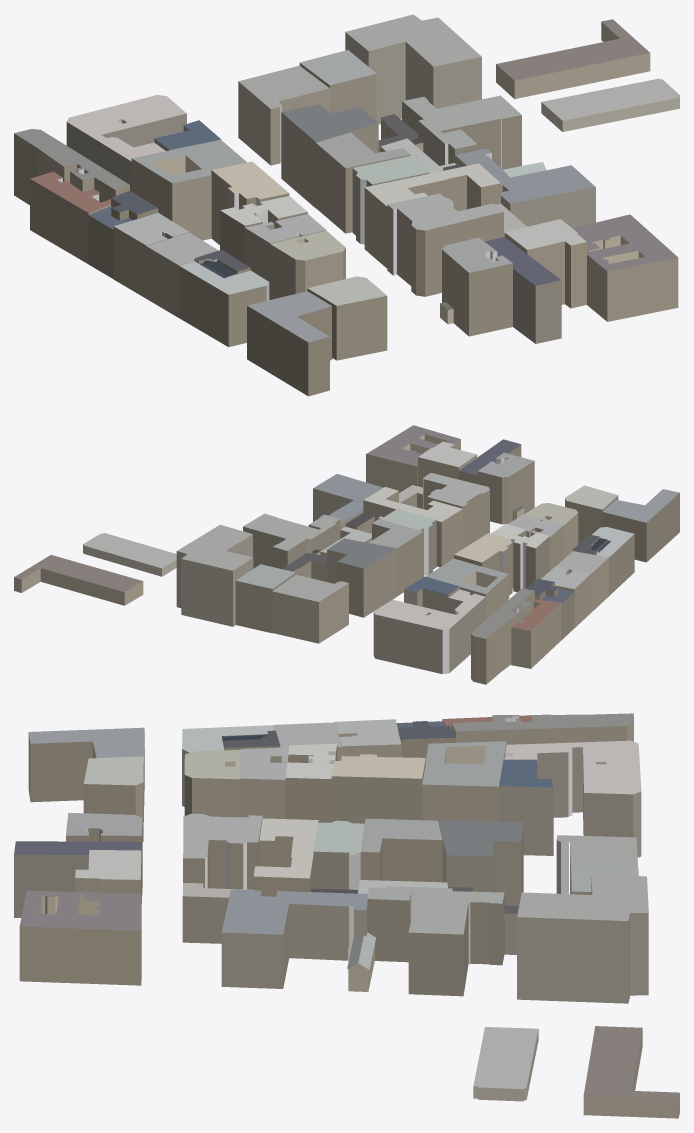
3 renders of one model, top to bottom at view 1: azimuth 30°, elevation 25°; view 2: azimuth 150°, elevation 25°; view 3: azimuth 270°, elevation 25°, orthographic. The views are drawn at different scales.
Visible parts, largest first — view 1: tuile; view 2: tuile; view 3: tuile.
Boxes of the visible parts, bbox=[...] form: tuile: bbox=[14, 14, 679, 396]; tuile: bbox=[14, 425, 679, 684]; tuile: bbox=[14, 713, 679, 1118].
Bounding box in the file's own units: 230 × 29.22 × 190.
